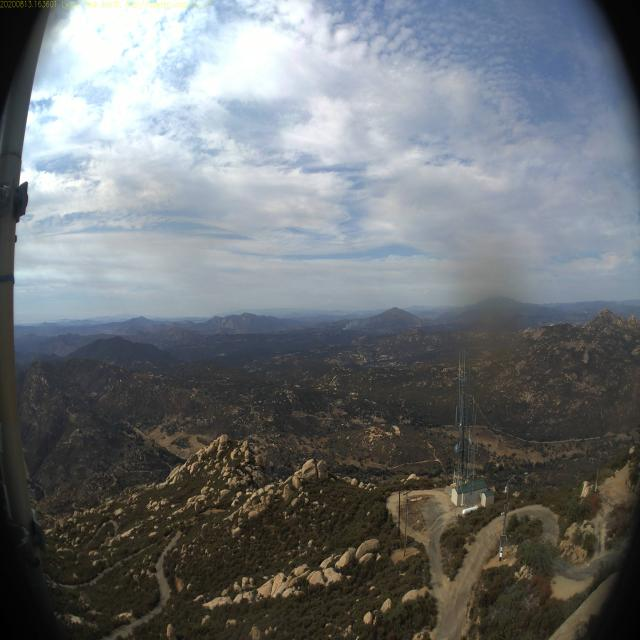smoke: (341, 310, 369, 335)
